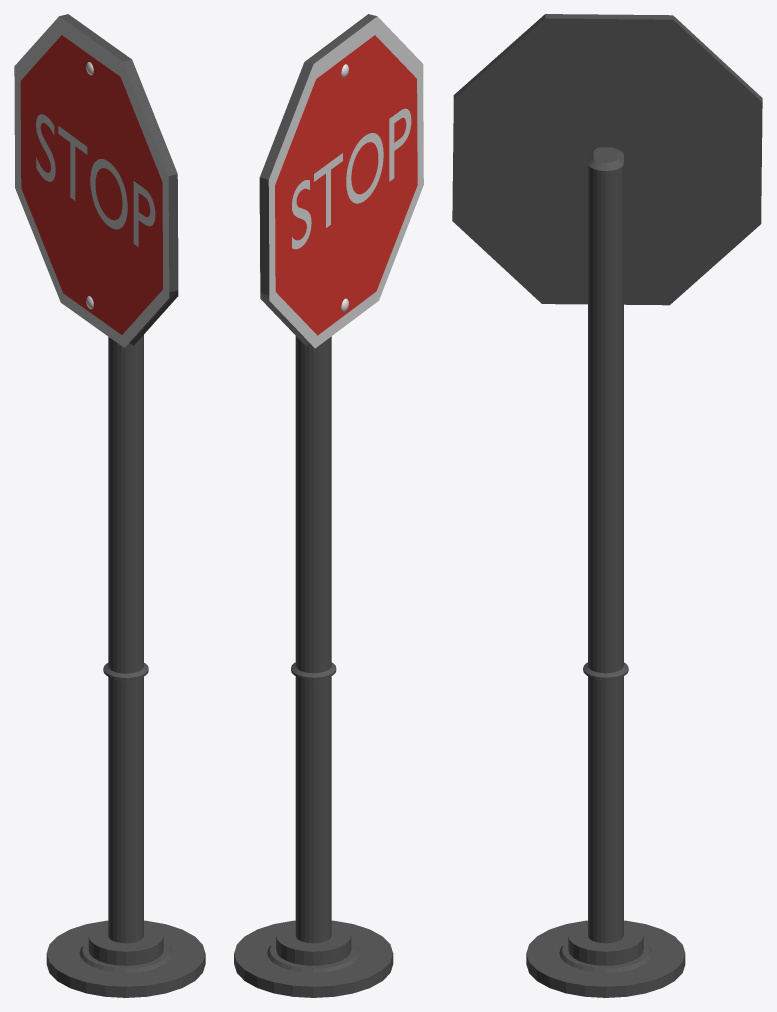
The model's file is Stop Sign.fbx.
3 renders of one model, left to right at view 1: azimuth 30°, elevation 25°; view 2: azimuth 150°, elevation 25°; view 3: azimuth 270°, elevation 25°, orthographic.
Parts seen in each view (by area): view 1: Circle.001, Circle, Text; view 2: Circle.001, Circle, Text; view 3: Circle.001, Circle.
Part boxes in pixels (bbox=[...]): Circle.001: bbox=[14, 14, 178, 347]; Circle: bbox=[46, 335, 205, 997]; Text: bbox=[36, 114, 155, 246]; Circle.001: bbox=[259, 14, 423, 348]; Circle: bbox=[234, 336, 393, 997]; Text: bbox=[292, 108, 411, 249]; Circle.001: bbox=[452, 14, 762, 305]; Circle: bbox=[526, 147, 685, 997].
Size of the model in its own units: 200 by 1296 by 390.
